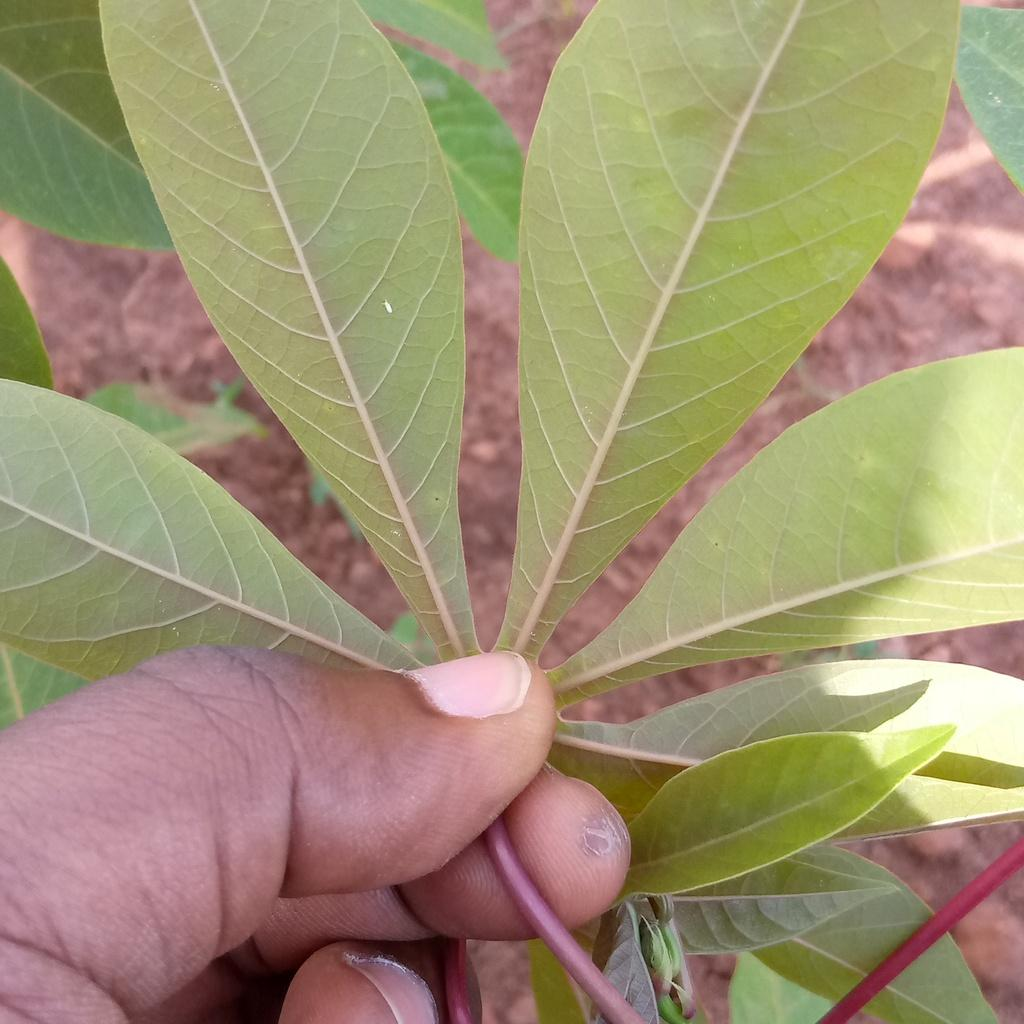adult: (383, 300, 393, 313)
